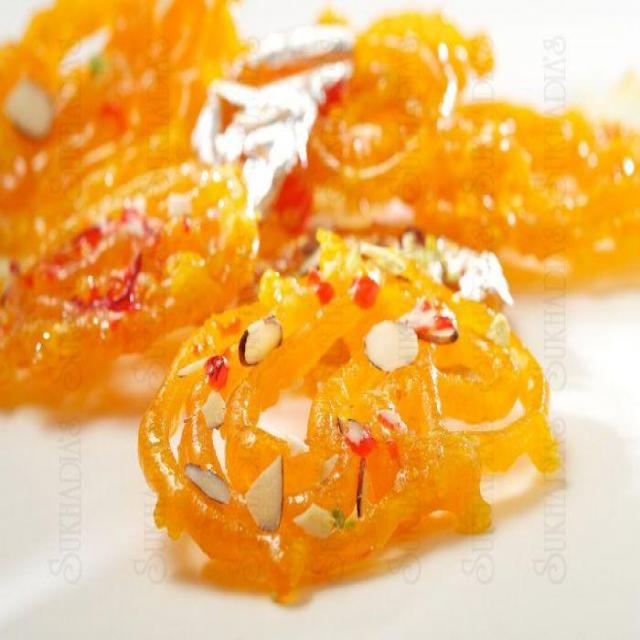jalebi: (4, 5, 640, 602)
